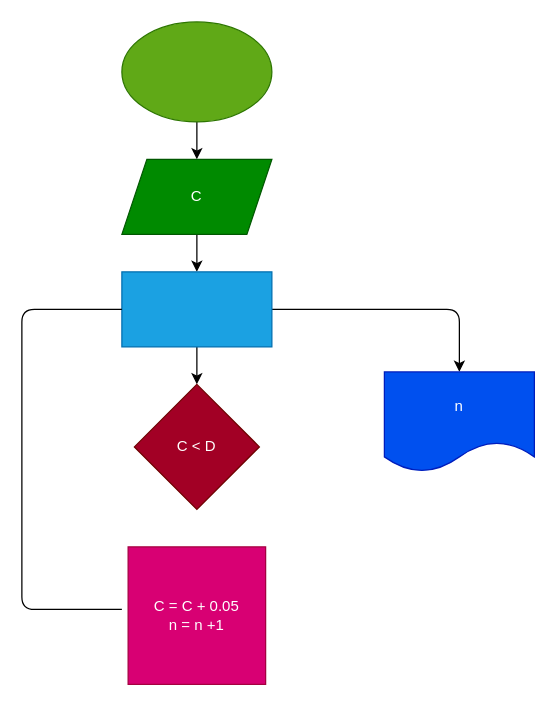
The diagram is 556 pixels wide and 706 high, and some of its shapes have lost their labels. The box of each missing label's shape, as (x1, y1, x2, y2) in pixels:
Inicio: (121, 21, 272, 122)
n = 0 D = 2c: (121, 271, 272, 347)
